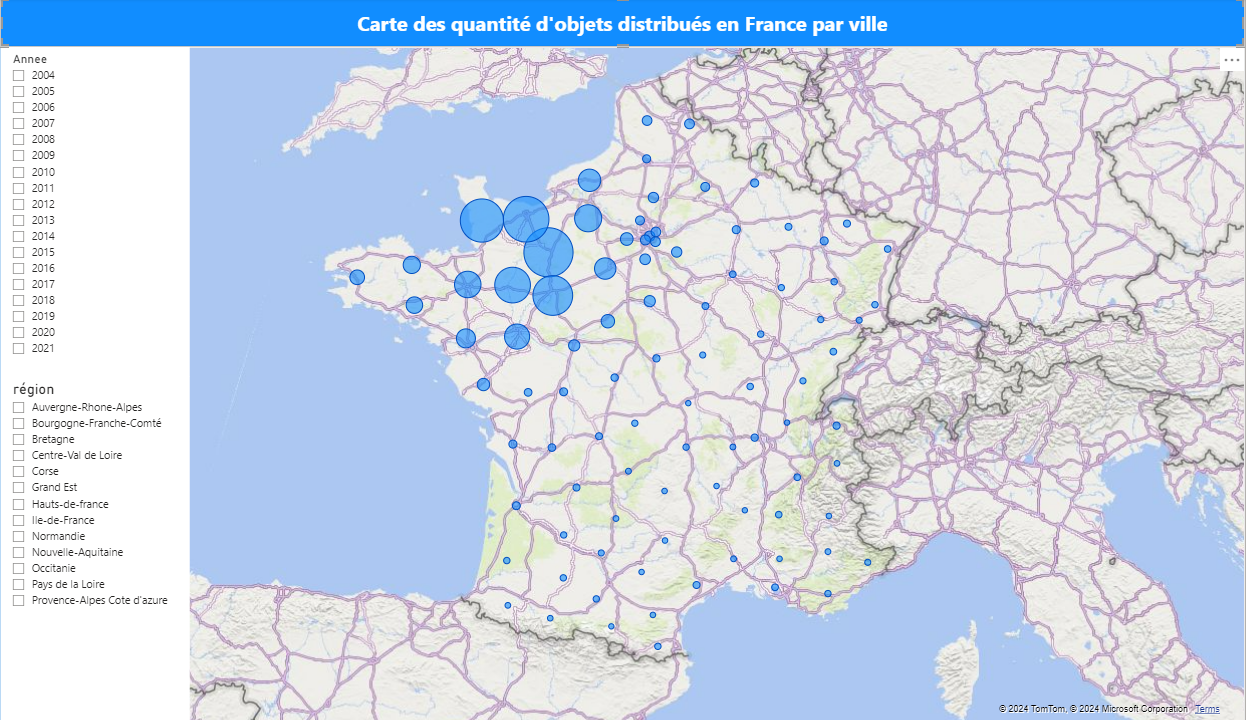

The page's visual inventory and layout, read from the dashboard file:
{"tool":"powerbi","page":{"name":"Carte ","canvas":[1280,720],"ordinal":2},"visuals":[{"type":"map","fields":{"Category":["dataw_fro03.Pays","dataw_fro03.depcli"],"Size":["Sum(dataw_fro03.qte)"]},"box":[189.3,48.8,1090.7,671.4],"z":0},{"type":"slicer","fields":{"Values":["Datum.Annee"]},"box":[0.1,45.7,188.9,328.4],"z":1000},{"type":"slicer","fields":{"Values":["dataw_fro03.Régions"]},"box":[0.1,374,188.9,342.9],"z":2000},{"type":"shape","box":[0,0,1280,48.8],"z":6000}]}

Visuals, with their boxes on the page's 1280x720 design canvas (x1, y1, x2, y2). These are canvas units, not pixel positions in the 1246x720 screenshot, which may show the page scaled, cropped or inside an application window:
map - dataw_fro03.Pays x dataw_fro03.depcli: [189,49,1280,720]
slicer - Datum.Annee: [0,46,189,374]
slicer - dataw_fro03.Régions: [0,374,189,717]
shape: [0,0,1280,49]
